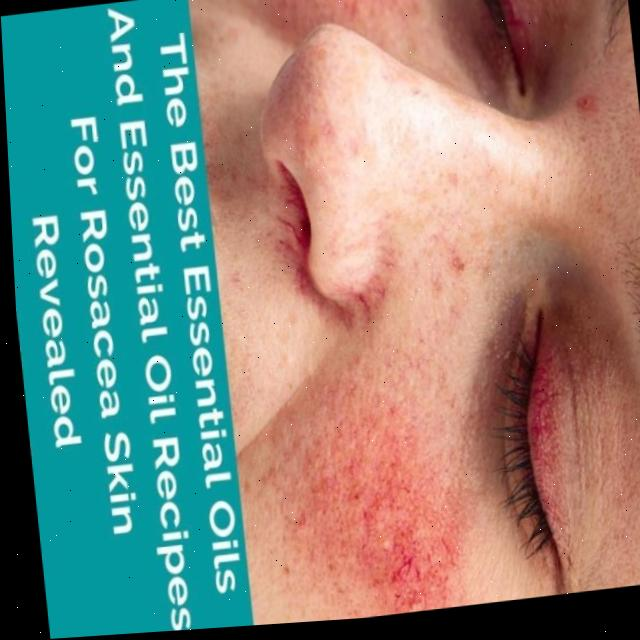Rosacea: (305, 257, 493, 621), (310, 0, 407, 17)
